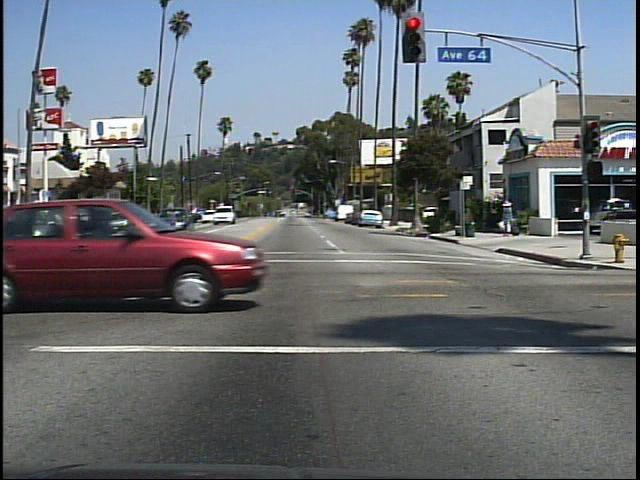person: (495, 195, 521, 245)
